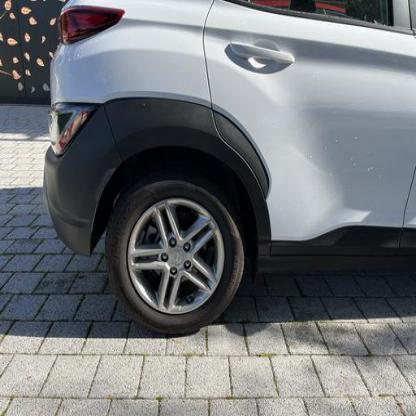Tire: (105, 163, 248, 335)
